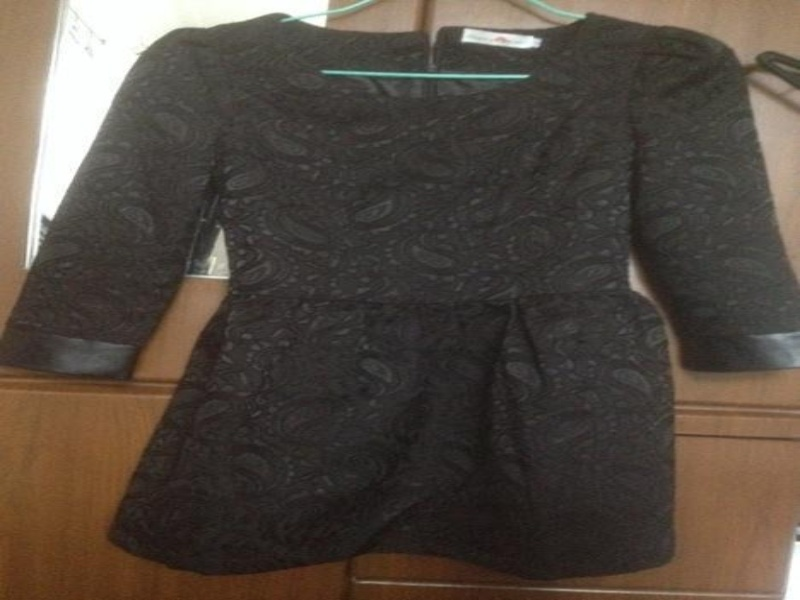long_sleeved_dress: (0, 12, 798, 580)
